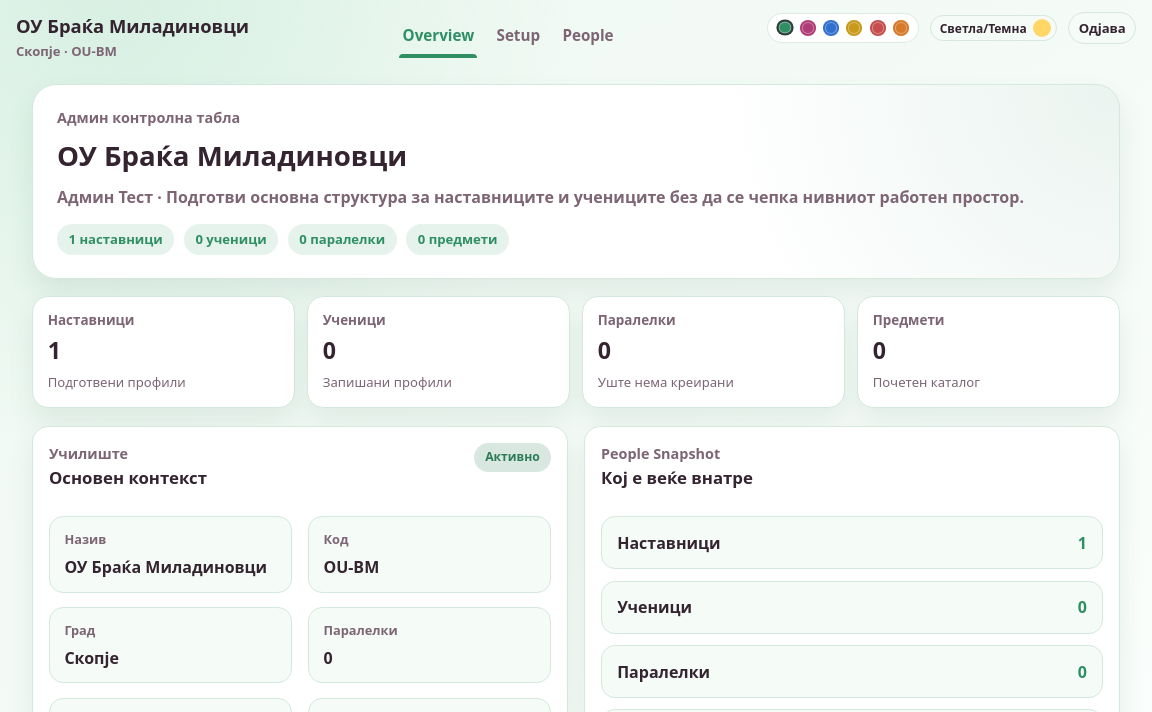
Test case: people tab does not show accepted but inactive users as active
What coordinates should you click on to do the following:
click the button "People"
I would click on:
 (588, 36)
Its box is [559, 14, 617, 58].
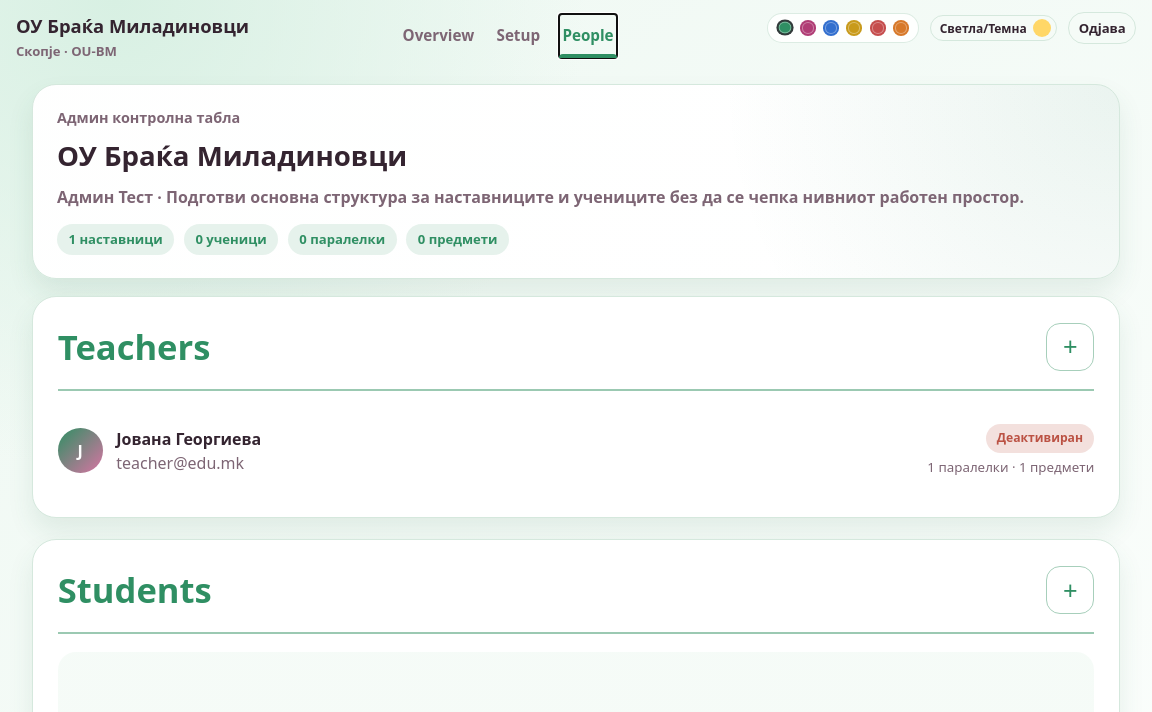
Now the text "Јована Георгиева" is shown, box [116, 428, 261, 450]
Now the text "Деактивиран" is shown, box [986, 424, 1094, 453]
